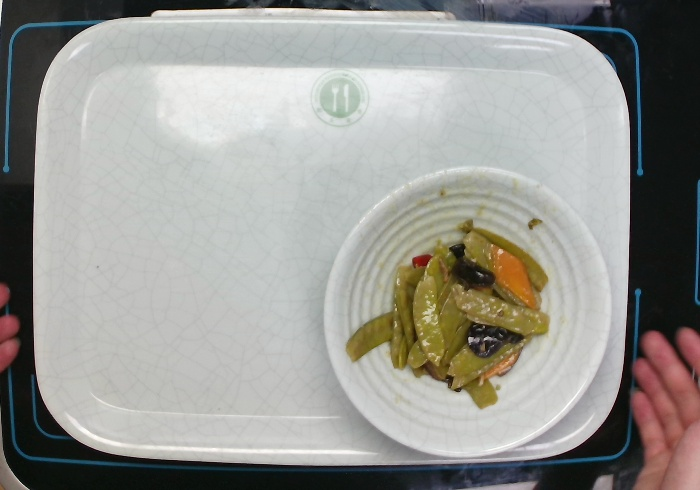JYsf-Xiao_Tang_Wan: (323, 162, 621, 463)
